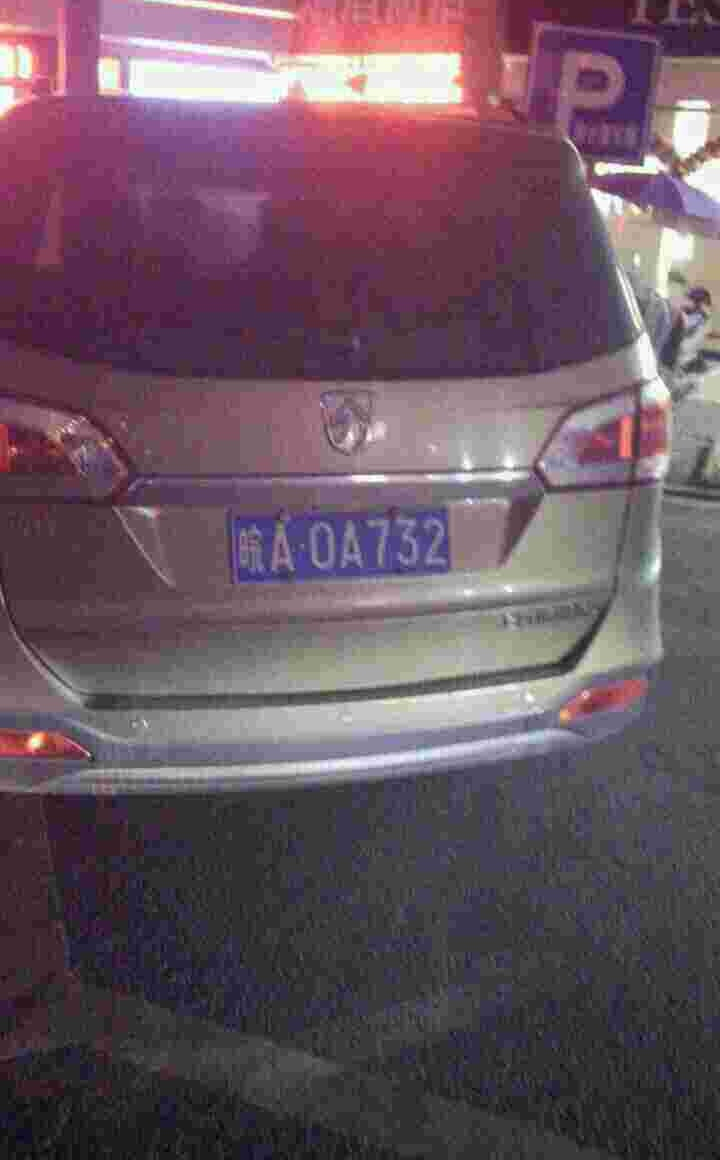car: (222, 511, 453, 575)
